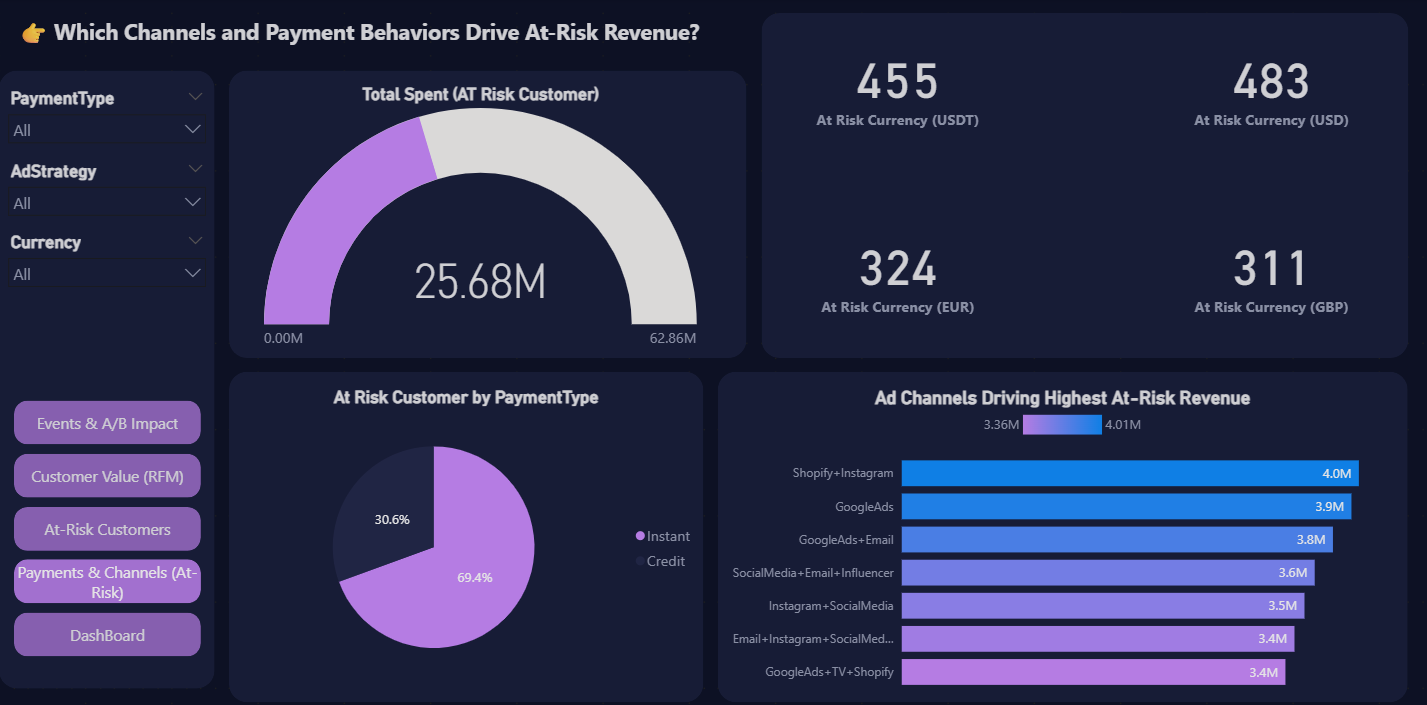

The dashboard page shown, as its layout file describes it:
{"tool":"powerbi","page":{"name":"Payments & Channels (At-Risk)","canvas":[1600,800],"ordinal":3},"visuals":[{"type":"shape","box":[848,16,720,384],"z":0},{"type":"shape","box":[256,416,528,368],"z":1000},{"type":"shape","box":[800,416,768,368],"z":2000},{"type":"shape","box":[256,80,576,320],"z":3000},{"type":"clusteredBarChart","title":"Ad Channels Driving Highest At-Risk Revenue","fields":{"Category":["branches.CurrentAdStrategy"],"Y":["Measure Table.Sum Sales (AT Risk Customer)"]},"box":[800,432,768,352],"z":4000},{"type":"card","fields":{"Values":["Measure Table.At Risk Currency (USD)"]},"box":[1264,16,304,160],"z":5000},{"type":"card","fields":{"Values":["Measure Table.At Risk Currency (USDT)"]},"box":[848,16,304,160],"z":6000},{"type":"gauge","title":"Total Spent (AT Risk Customer) ","fields":{"Y":["Measure Table.Sum Sales (AT Risk Customer)"],"MaxValue":["Sum(arpand_ecommerce_dataset.CleanTotalSpent)"]},"box":[256,96,560,304],"z":7000},{"type":"pieChart","fields":{"Category":["arpand_ecommerce_dataset.PaymentType"],"Y":["Measure Table.At Risk Customer"]},"box":[256,432,528,336],"z":8000},{"type":"card","fields":{"Values":["Measure Table.At Risk Currency (EUR)"]},"box":[848,208,304,192],"z":9000},{"type":"card","fields":{"Values":["Measure Table.At Risk Currency (GBP)"]},"box":[1264,208,304,192],"z":10000},{"type":"shape","box":[0,80,240,688],"z":11000},{"type":"slicer","fields":{"Values":["arpand_ecommerce_dataset.PaymentType"]},"box":[0,96,240,80],"z":12000},{"type":"slicer","fields":{"Values":["ad_history.AdStrategy"]},"box":[0,176,240,80],"z":13000},{"type":"slicer","fields":{"Values":["arpand_ecommerce_dataset.Currency"]},"box":[0,256,240,80],"z":14000},{"type":"pageNavigator","box":[16,448,208,288],"z":15000},{"type":"textbox","box":[16,16,800,64],"z":16000}]}

Visuals, with their boxes in screenshot pixels (x1, y1, x2, y2), scaled from the page's 1600x800 canvas onto the 1427x705 screenshot:
shape: box(756, 14, 1398, 352)
shape: box(228, 367, 699, 691)
shape: box(714, 367, 1398, 691)
shape: box(228, 70, 742, 352)
"Ad Channels Driving Highest At-Risk Revenue" clusteredBarChart: box(714, 381, 1398, 691)
card - Measure Table.At Risk Currency (USD): box(1127, 14, 1398, 155)
card - Measure Table.At Risk Currency (USDT): box(756, 14, 1027, 155)
"Total Spent (AT Risk Customer) " gauge: box(228, 85, 728, 352)
pieChart - arpand_ecommerce_dataset.PaymentType x Measure Table.At Risk Customer: box(228, 381, 699, 677)
card - Measure Table.At Risk Currency (EUR): box(756, 183, 1027, 352)
card - Measure Table.At Risk Currency (GBP): box(1127, 183, 1398, 352)
shape: box(0, 70, 214, 677)
slicer - arpand_ecommerce_dataset.PaymentType: box(0, 85, 214, 155)
slicer - ad_history.AdStrategy: box(0, 155, 214, 226)
slicer - arpand_ecommerce_dataset.Currency: box(0, 226, 214, 296)
pageNavigator: box(14, 395, 200, 649)
textbox: box(14, 14, 728, 70)
